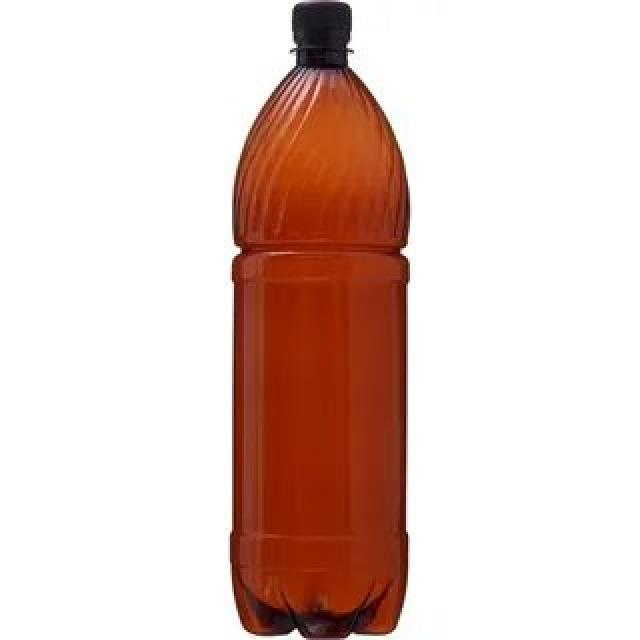brown: (230, 43, 410, 637)
